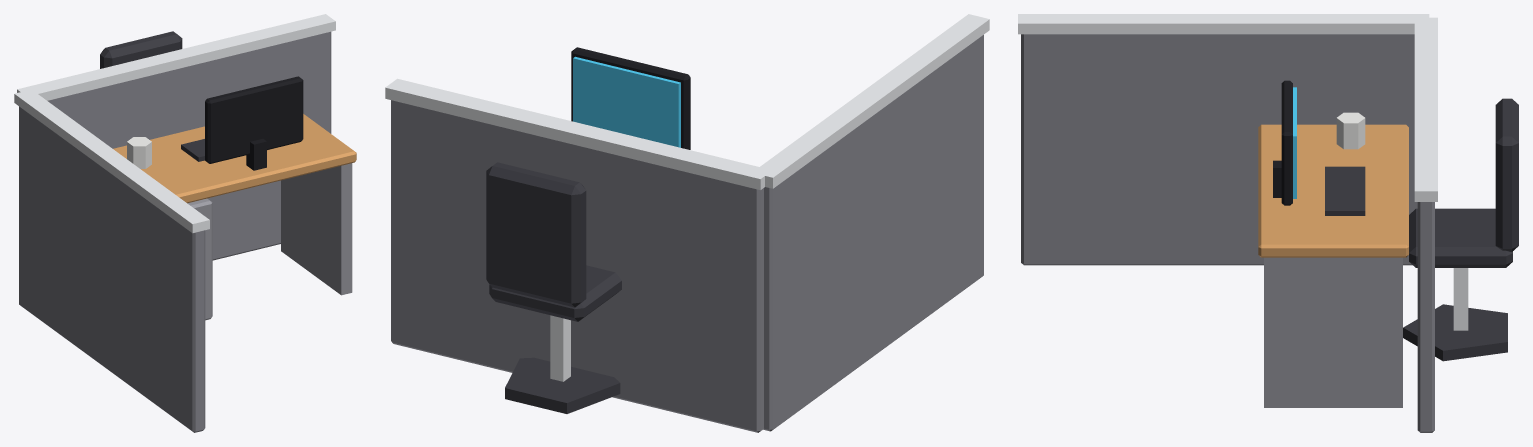
File: Cubicle.fbx
3 views of the same model, side by side, from view 1: azimuth 30°, elevation 25°; view 2: azimuth 150°, elevation 25°; view 3: azimuth 270°, elevation 25° (orthographic). The views are drawn at different scales.
Parts seen in each view (by area): view 1: Cubicle; view 2: Cubicle; view 3: Cubicle.
Part boxes in pixels (<box>): Cubicle: <box>14,14,356,432</box>; Cubicle: <box>385,14,989,432</box>; Cubicle: <box>1018,14,1518,432</box>.
Size of the model in its own units: 7.25 by 4.8 by 8.65.
Materials: 1 (1 with a texture image).
